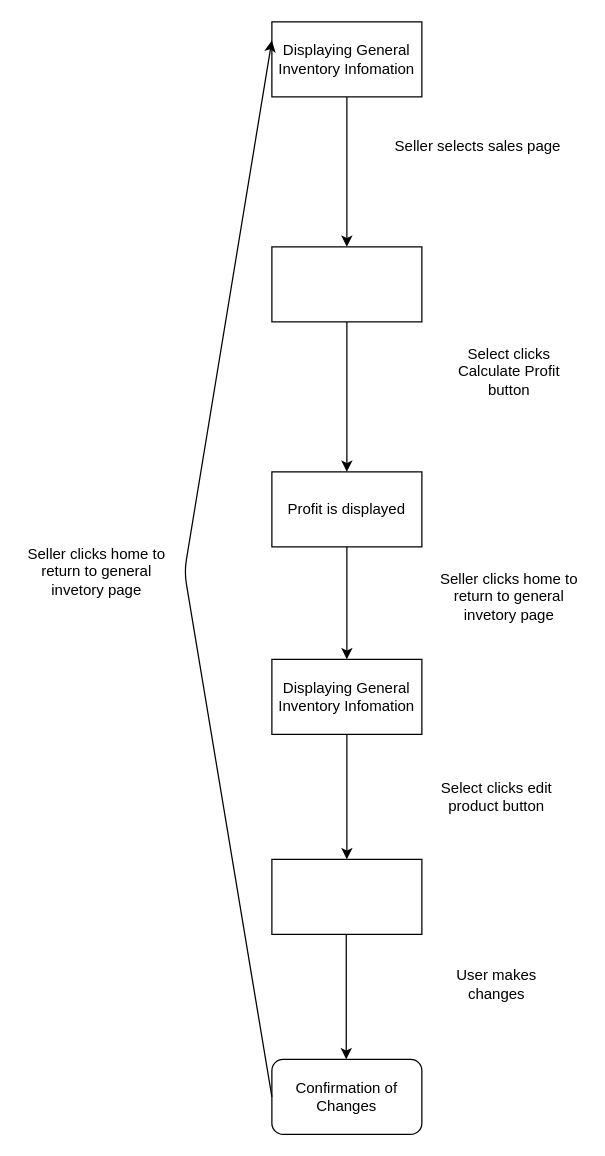
Some shapes in this 605 by 1156 pixel diagram are drawn without their labels. The centre of each missing label's shape, as x and y in pixels:
"Displays sale information" belongs at point (346, 284).
"Product Information Displayed" belongs at point (346, 896).
